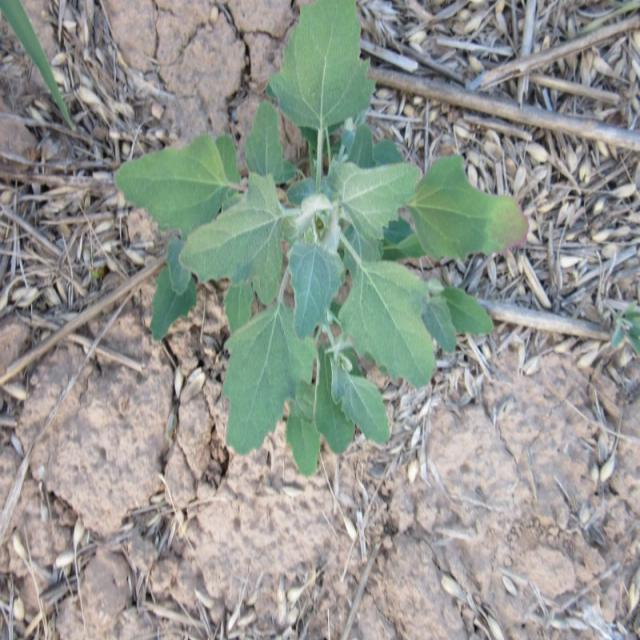ca: (111, 1, 528, 473)
